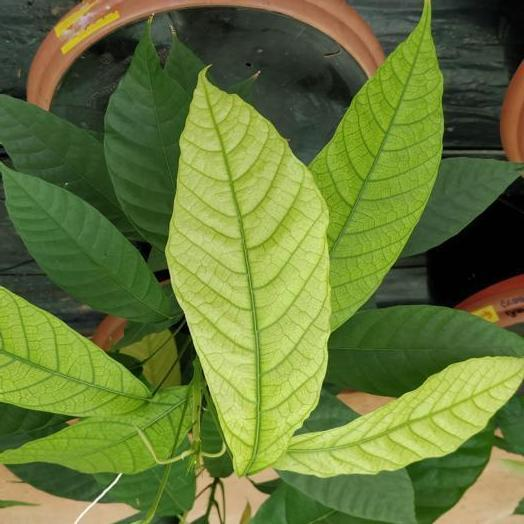Iron: (166, 73, 330, 474), (309, 0, 442, 328), (274, 357, 523, 477), (0, 288, 148, 416), (2, 387, 190, 473)
